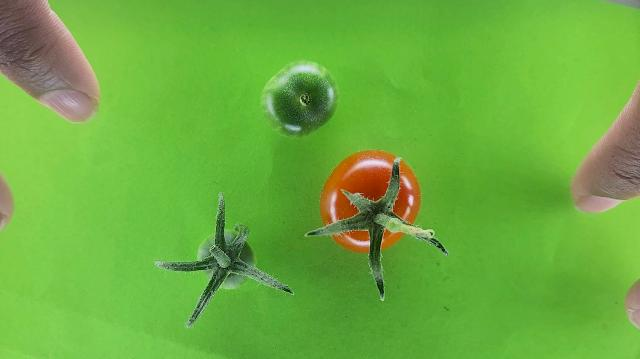Fruit Maturation: (260, 59, 340, 139), (197, 231, 255, 289)
Fully Grown: (318, 148, 424, 254)
